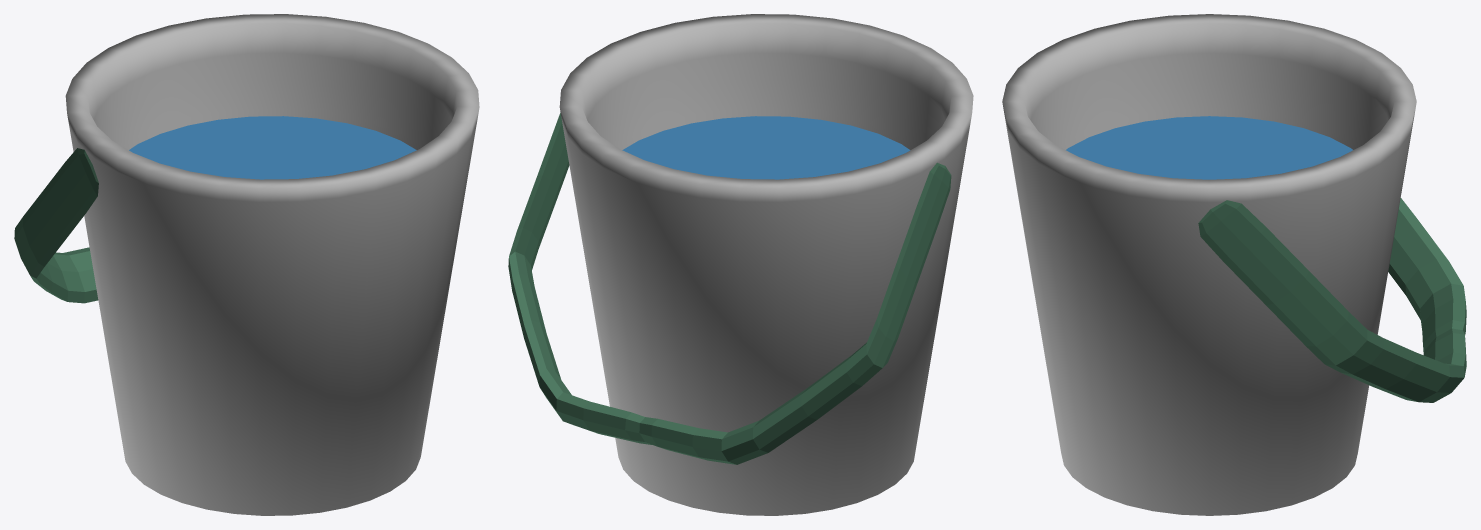
Rendered from bucket.fbx.
3 views of the same model, side by side, from view 1: azimuth 30°, elevation 25°; view 2: azimuth 150°, elevation 25°; view 3: azimuth 270°, elevation 25° (orthographic).
Parts seen in each view (by area): view 1: Cylinder, Circle, Plane; view 2: Cylinder, Plane, Circle; view 3: Cylinder, Plane, Circle.
Part boxes in pixels (x1=…): Cylinder: x1=65, y1=14, x2=479, y2=515; Circle: x1=129, y1=116, x2=416, y2=179; Plane: x1=14, y1=148, x2=98, y2=303; Cylinder: x1=559, y1=14, x2=973, y2=515; Plane: x1=508, y1=112, x2=951, y2=464; Circle: x1=622, y1=116, x2=910, y2=179; Cylinder: x1=1002, y1=14, x2=1416, y2=515; Plane: x1=1198, y1=198, x2=1466, y2=402; Circle: x1=1066, y1=116, x2=1352, y2=179.
Bounding box in the file's own units: 548 × 508 × 608.
